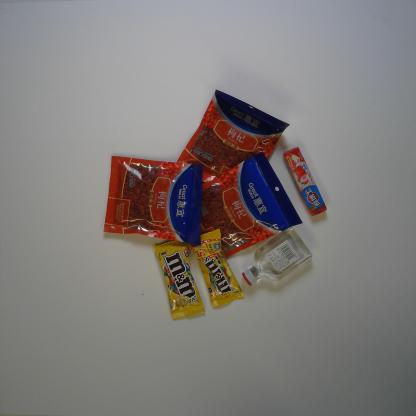Alcohol: (240, 225, 313, 289)
Candy: (282, 147, 327, 217)
Chocolate: (185, 228, 245, 310), (152, 235, 207, 322)
Dried Fruit: (177, 152, 302, 262), (175, 87, 292, 202), (102, 153, 206, 247)
